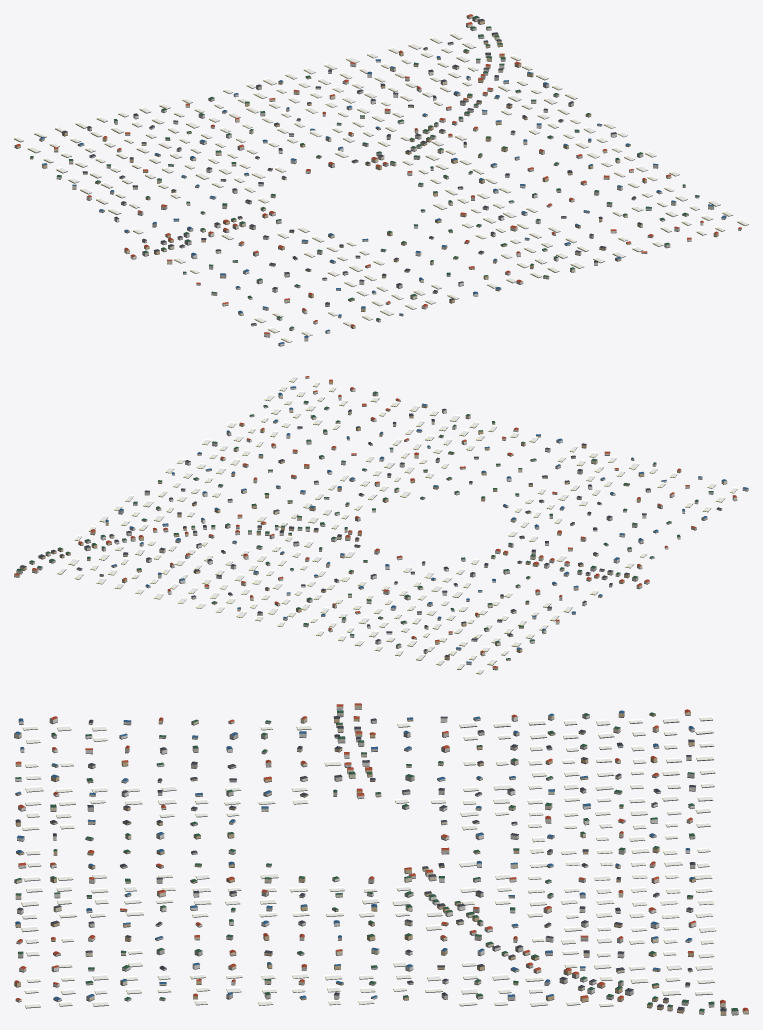
Rendered from buildings_T_E03_N04.glb.
The picture shows the model from 3 angles, top to bottom: view 1: azimuth 30°, elevation 25°; view 2: azimuth 150°, elevation 25°; view 3: azimuth 270°, elevation 25°; orthographic projection. The views are drawn at different scales.
Parts seen in each view (by area): view 1: T_E03_N04_roofs_agri_greenhouse_arch, T_E03_N04_slope_seating_foundations, T_E03_N04_walls_wall_pastel_sand_gray, T_E03_N04_walls_wall_modern_warm_white, T_E03_N04_walls_wall_french_ochre_villa, T_E03_N04_walls_wall_dalat_cream_stucco, T_E03_N04_roofs_roof_pine_green_hip, T_E03_N04_roofs_roof_slate_French_villa_hip, T_E03_N04_roofs_roof_terracotta_gable, T_E03_N04_roofs_roof_highland_blue_gable; view 2: T_E03_N04_roofs_agri_greenhouse_arch, T_E03_N04_slope_seating_foundations, T_E03_N04_walls_wall_pastel_sand_gray, T_E03_N04_walls_wall_modern_warm_white, T_E03_N04_walls_wall_french_ochre_villa, T_E03_N04_walls_wall_dalat_cream_stucco, T_E03_N04_roofs_roof_pine_green_hip, T_E03_N04_roofs_roof_slate_French_villa_hip, T_E03_N04_roofs_roof_terracotta_gable, T_E03_N04_roofs_roof_highland_blue_gable; view 3: T_E03_N04_roofs_agri_greenhouse_arch, T_E03_N04_slope_seating_foundations, T_E03_N04_walls_wall_pastel_sand_gray, T_E03_N04_walls_wall_modern_warm_white, T_E03_N04_walls_wall_french_ochre_villa, T_E03_N04_walls_wall_dalat_cream_stucco, T_E03_N04_roofs_roof_pine_green_hip, T_E03_N04_roofs_roof_slate_French_villa_hip, T_E03_N04_roofs_roof_terracotta_gable, T_E03_N04_roofs_roof_highland_blue_gable.
Part boxes in pixels (x1,y1,x2,y2): T_E03_N04_roofs_agri_greenhouse_arch: (14,32,748,342); T_E03_N04_slope_seating_foundations: (14,18,748,346); T_E03_N04_walls_wall_pastel_sand_gray: (39,17,670,330); T_E03_N04_walls_wall_modern_warm_white: (56,43,741,346); T_E03_N04_walls_wall_french_ochre_villa: (30,20,718,328); T_E03_N04_walls_wall_dalat_cream_stucco: (14,15,714,340); T_E03_N04_roofs_roof_pine_green_hip: (30,15,699,328); T_E03_N04_roofs_roof_slate_French_villa_hip: (62,18,642,324); T_E03_N04_roofs_roof_terracotta_gable: (15,14,741,334); T_E03_N04_roofs_roof_highland_blue_gable: (40,56,726,344); T_E03_N04_roofs_agri_greenhouse_arch: (57,375,737,673); T_E03_N04_slope_seating_foundations: (14,377,748,674); T_E03_N04_walls_wall_pastel_sand_gray: (16,393,713,664); T_E03_N04_walls_wall_modern_warm_white: (76,377,748,644); T_E03_N04_walls_wall_french_ochre_villa: (19,381,681,660); T_E03_N04_walls_wall_dalat_cream_stucco: (14,394,727,669); T_E03_N04_roofs_roof_pine_green_hip: (16,391,713,659); T_E03_N04_roofs_roof_slate_French_villa_hip: (20,408,721,657); T_E03_N04_roofs_roof_terracotta_gable: (14,376,736,667); T_E03_N04_roofs_roof_highland_blue_gable: (105,386,747,662); T_E03_N04_roofs_agri_greenhouse_arch: (21,715,716,1007); T_E03_N04_slope_seating_foundations: (14,709,748,1015); T_E03_N04_walls_wall_pastel_sand_gray: (18,713,738,1014); T_E03_N04_walls_wall_modern_warm_white: (15,706,696,1001); T_E03_N04_walls_wall_french_ochre_villa: (14,712,726,1014); T_E03_N04_walls_wall_dalat_cream_stucco: (14,705,748,1013); T_E03_N04_roofs_roof_pine_green_hip: (14,710,738,1011); T_E03_N04_roofs_roof_slate_French_villa_hip: (15,716,726,1011); T_E03_N04_roofs_roof_terracotta_gable: (14,703,748,1011); T_E03_N04_roofs_roof_highland_blue_gable: (14,710,695,1000).
Bounding box in the file's own units: 1843 × 37.61 × 1834.
